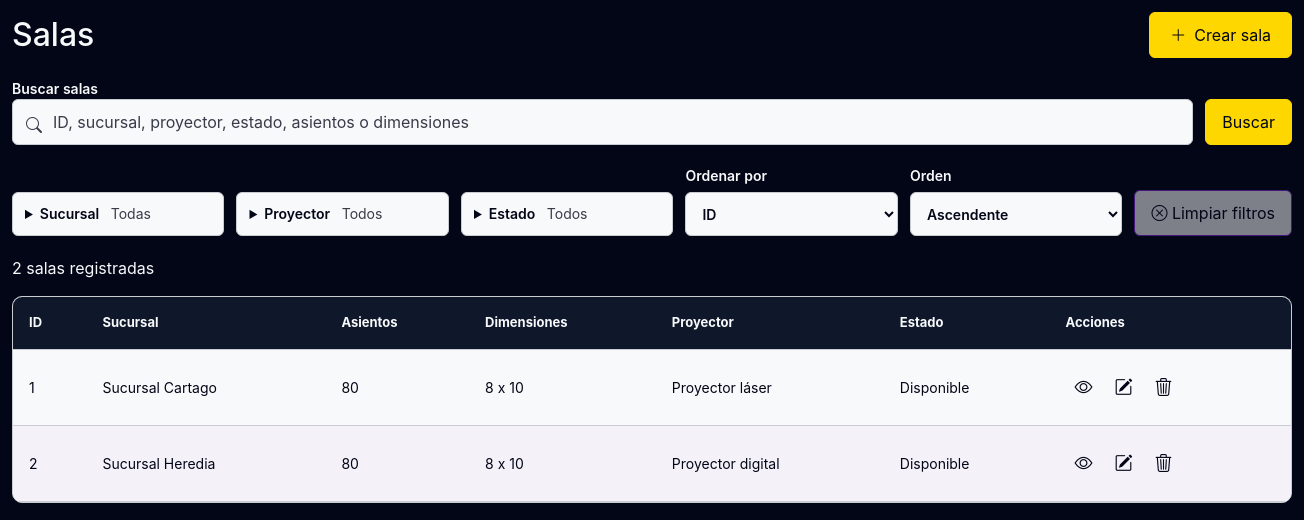
Scenario: TheatersSection search › filters by text ignoring accents and case
In the search field with id "theater-search": (603, 122) [12,99,1193,145], type "LASER"
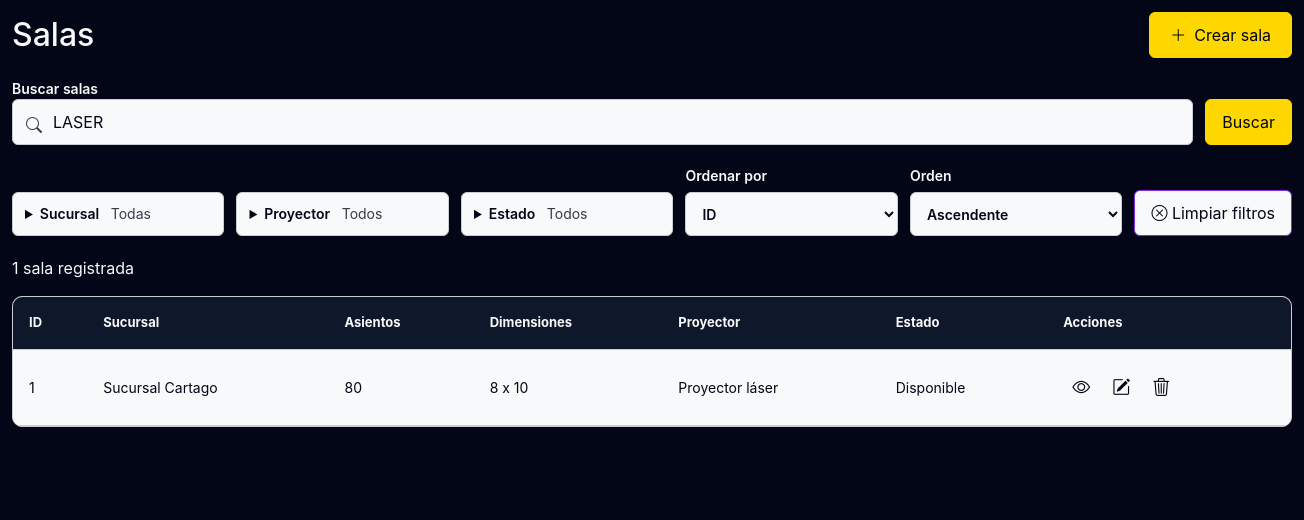
Check: the table shows "Cartago", box [103,378,218,396]
Check: the cell no longer shows "Heredia"
